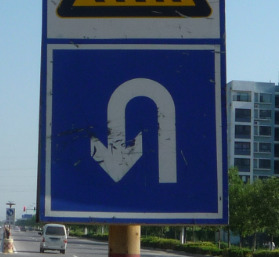u_turn: (35, 0, 227, 225)
